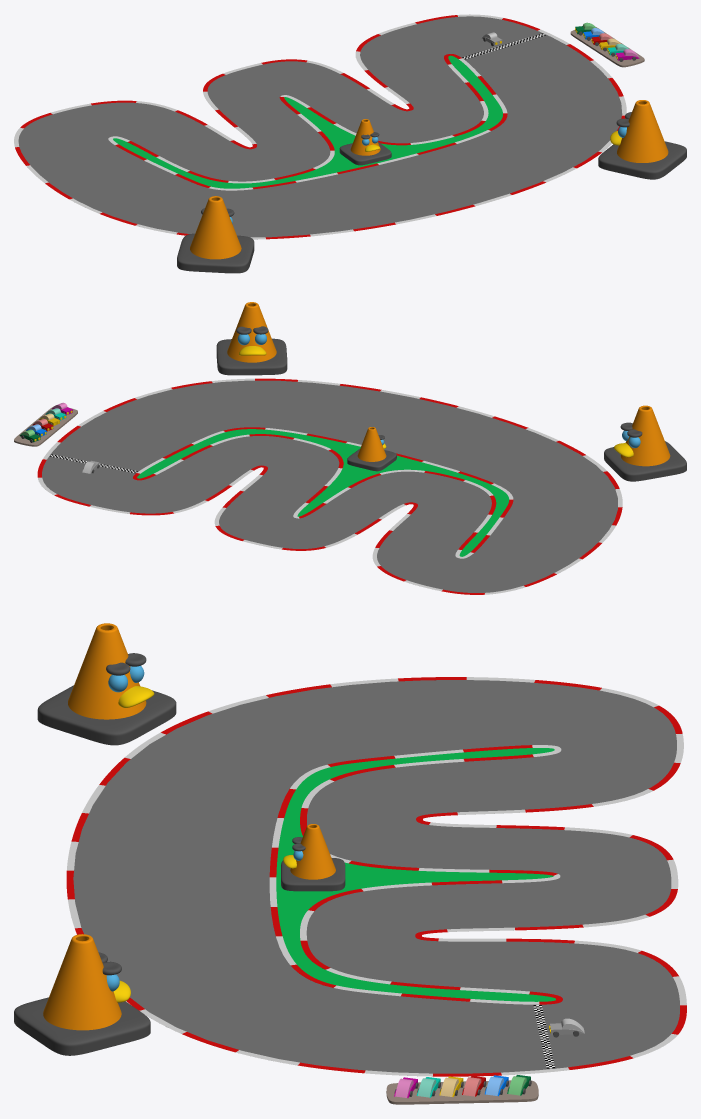
Rendered from Track007_MiniComb2.fbx.
3 views of the same model, one above another, from view 1: azimuth 30°, elevation 25°; view 2: azimuth 150°, elevation 25°; view 3: azimuth 270°, elevation 25° (orthographic). The views are drawn at different scales.
Visible parts, largest first — view 1: Track, Island_00, BigConeTop.003, BigConeTop.002, BigConeBase.003, BigConeBase.002, BigConeBase.001, BigConeTop.001, VehicleRoad; view 2: Track, Island_00, BigConeTop.003, BigConeBase.002, BigConeBase.003, BigConeTop.002, BigConeTop.001, BigConeBase.001, VehicleRoad; view 3: Track, Island_00, BigConeTop.002, BigConeTop.003, BigConeBase.002, BigConeBase.003, VehicleRoad, BigConeTop.001, BigConeBase.001.
Part boxes in pixels (<box>): Track: <box>18,16,622,237</box>; Island_00: <box>113,55,502,188</box>; BigConeTop.003: <box>190,196,241,259</box>; BigConeTop.002: <box>617,100,668,162</box>; BigConeBase.003: <box>177,233,254,273</box>; BigConeBase.002: <box>598,141,686,179</box>; BigConeBase.001: <box>339,142,391,165</box>; BigConeTop.001: <box>350,119,380,155</box>; VehicleRoad: <box>570,27,644,67</box>; Track: <box>42,380,617,592</box>; Island_00: <box>137,429,509,556</box>; BigConeTop.003: <box>621,405,670,466</box>; BigConeBase.002: <box>216,338,287,375</box>; BigConeBase.003: <box>604,441,686,481</box>; BigConeTop.002: <box>227,302,276,362</box>; BigConeTop.001: <box>357,427,386,461</box>; BigConeBase.001: <box>347,449,396,471</box>; VehicleRoad: <box>14,406,77,446</box>; Track: <box>73,680,679,1073</box>; Island_00: <box>276,748,555,1001</box>; BigConeTop.002: <box>43,934,121,1030</box>; BigConeTop.003: <box>68,623,146,719</box>; BigConeBase.002: <box>14,997,150,1055</box>; BigConeBase.003: <box>37,685,176,745</box>; VehicleRoad: <box>386,1080,538,1104</box>; BigConeTop.001: <box>290,824,335,879</box>; BigConeBase.001: <box>281,858,345,891</box>.
Size of what is drawn, in the model's own units: 179 by 119 by 17.31.
